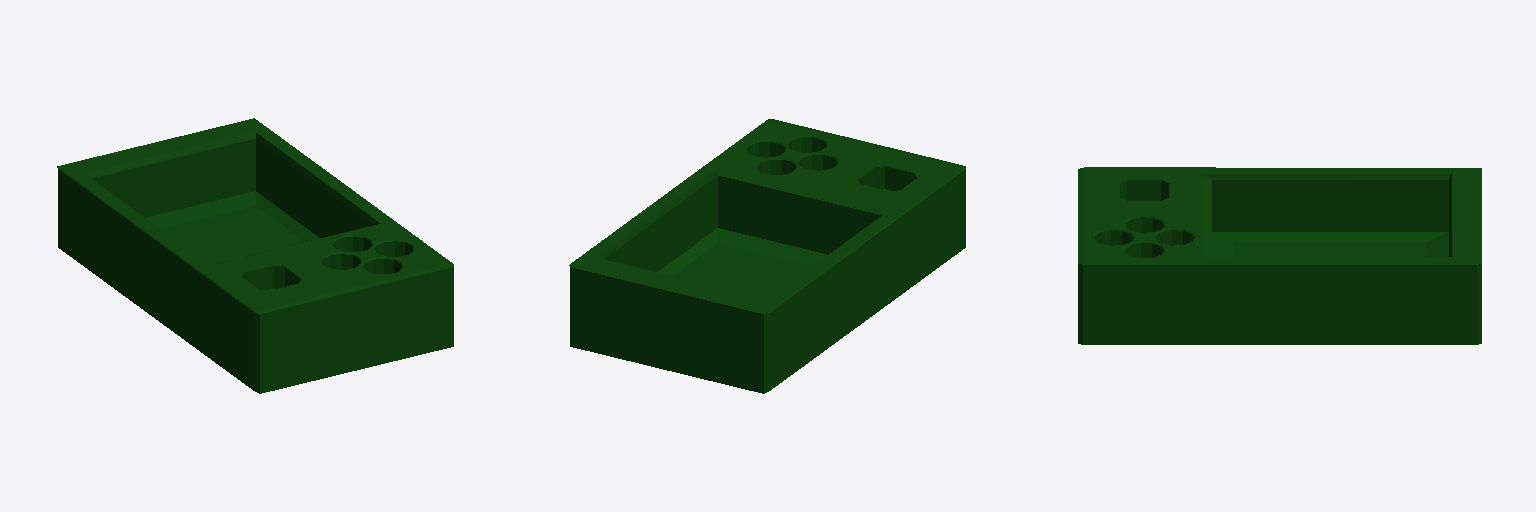
File: gamepad.obj
3 views of the same model, side by side, from view 1: azimuth 30°, elevation 25°; view 2: azimuth 150°, elevation 25°; view 3: azimuth 270°, elevation 25° (orthographic).
Parts seen in each view (by area): view 1: gamepad; view 2: gamepad; view 3: gamepad.
Part boxes in pixels (x1,y1,x2,y2): gamepad: (57,118,453,393); gamepad: (569,119,965,393); gamepad: (1078,167,1481,344).
Size of the model in its own units: 1.14 by 0.4394 by 2.